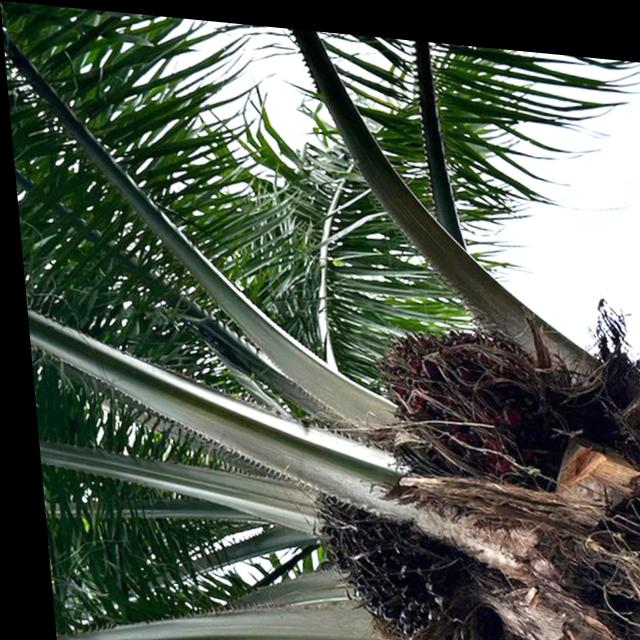ripe: (355, 327, 537, 485)
